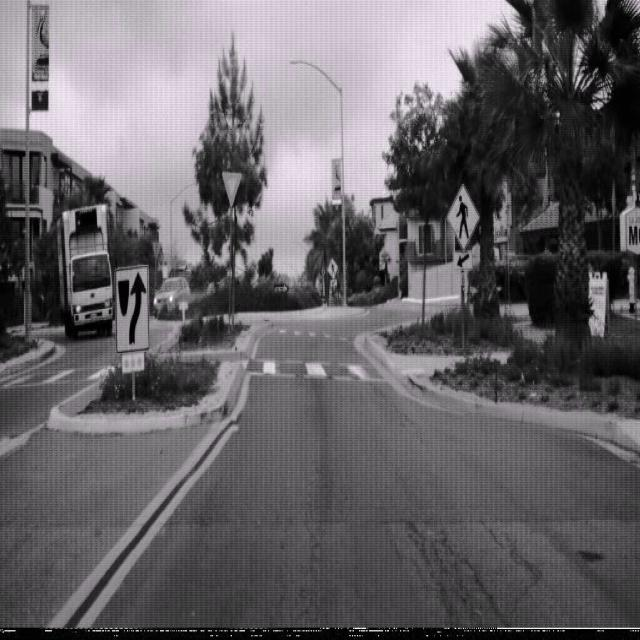pedestrianCrossing: (446, 183, 480, 251), (327, 256, 338, 280)
yield: (220, 170, 242, 208)
